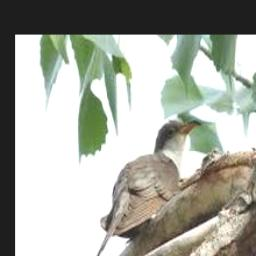Cuckoo: (93, 119, 201, 256)
